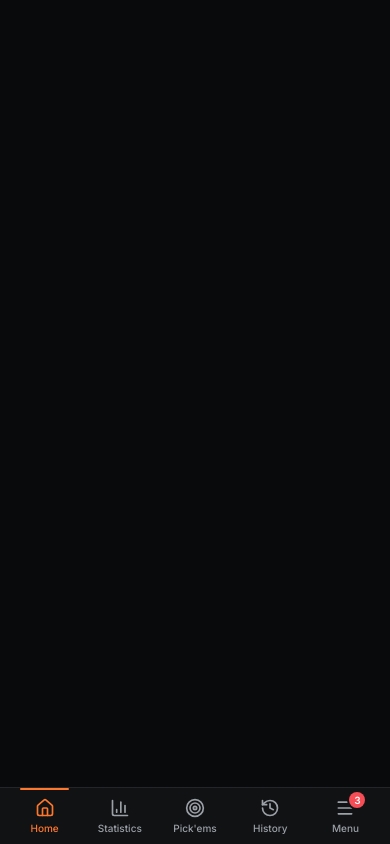
MobileTabBar › has no account rows for a signed-out viewer, whose Login is in the header
Click the button "3 Menu" at (345, 816), box 309,788 -> 382,843
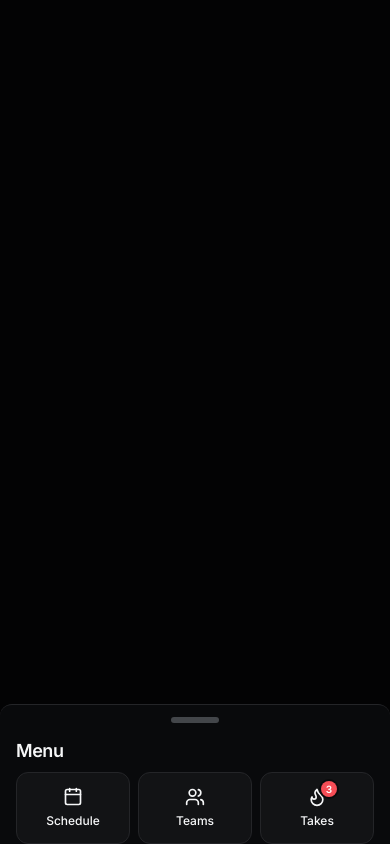
Expected: the navigation bar named "More" is shown, 16,772 -> 374,843
